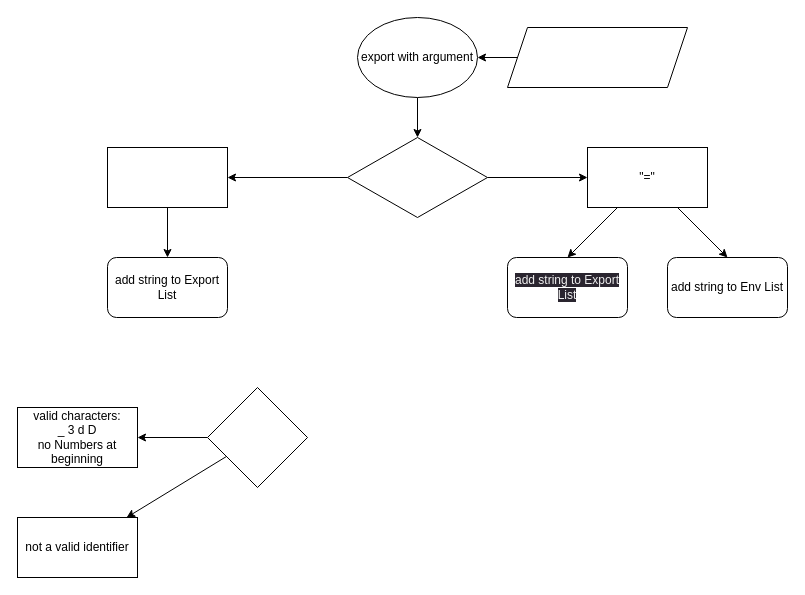
The diagram is 805 pixels wide and 595 high, and some of its shapes have lost their labels. The centre of each missing label's shape, as x and y in pixels:
arg without "export" in the beginning: pixel 597 57
check for "=": pixel 417 177
check for valid var name: pixel 257 437
no "=": pixel 167 177
